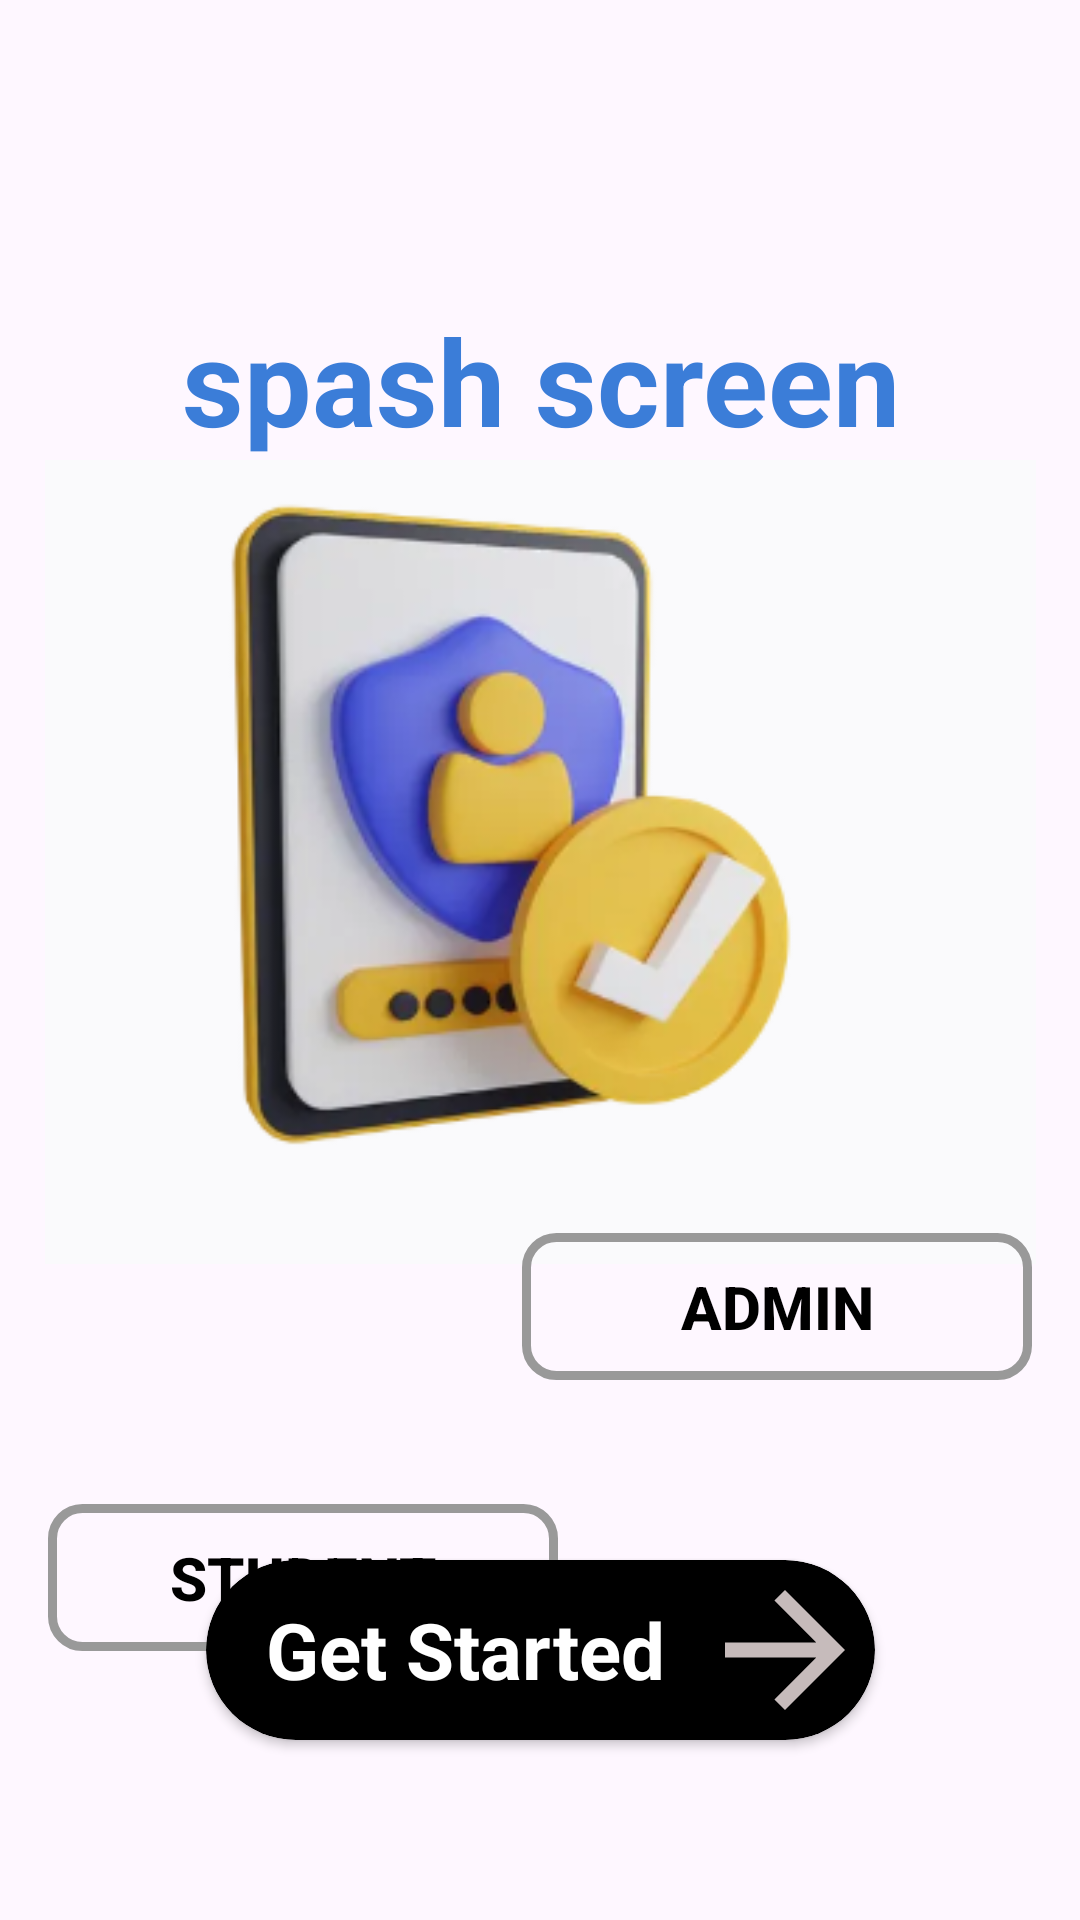

Locate icon controls on the screen. Image size 1080x1920, boxes as (x1, y1, x2, y2).
arrow: (695, 1560, 875, 1740)
